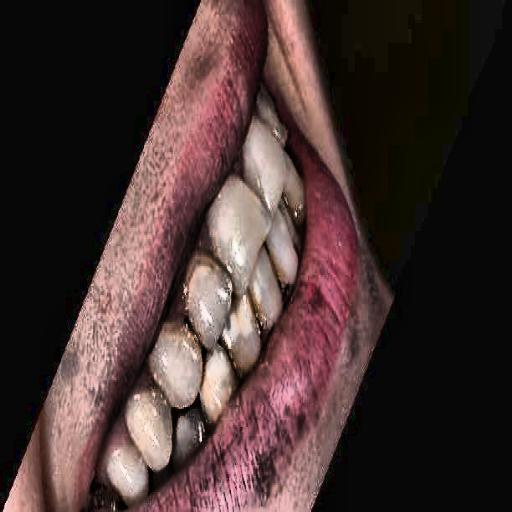Calculus: (167, 206, 282, 394)
